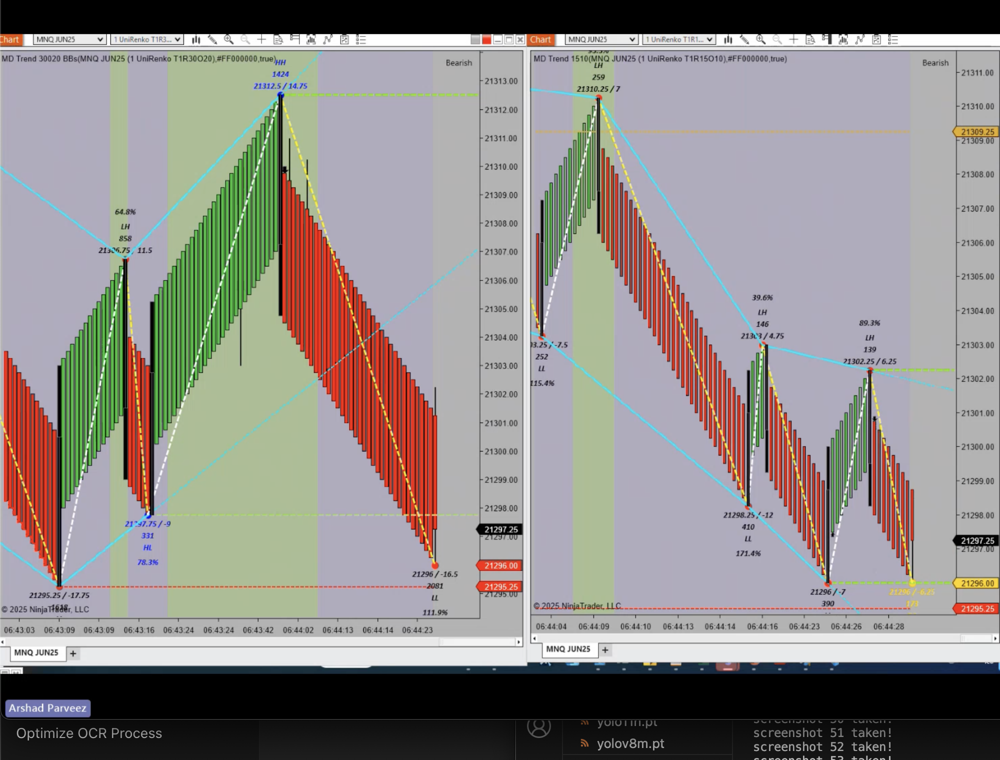HH: (271, 57, 295, 71)
HL: (137, 538, 157, 556)
LH: (751, 303, 776, 319), (116, 219, 139, 235), (861, 331, 883, 345), (588, 59, 610, 71)
LL: (739, 527, 761, 550), (534, 359, 553, 379), (426, 591, 446, 607)
